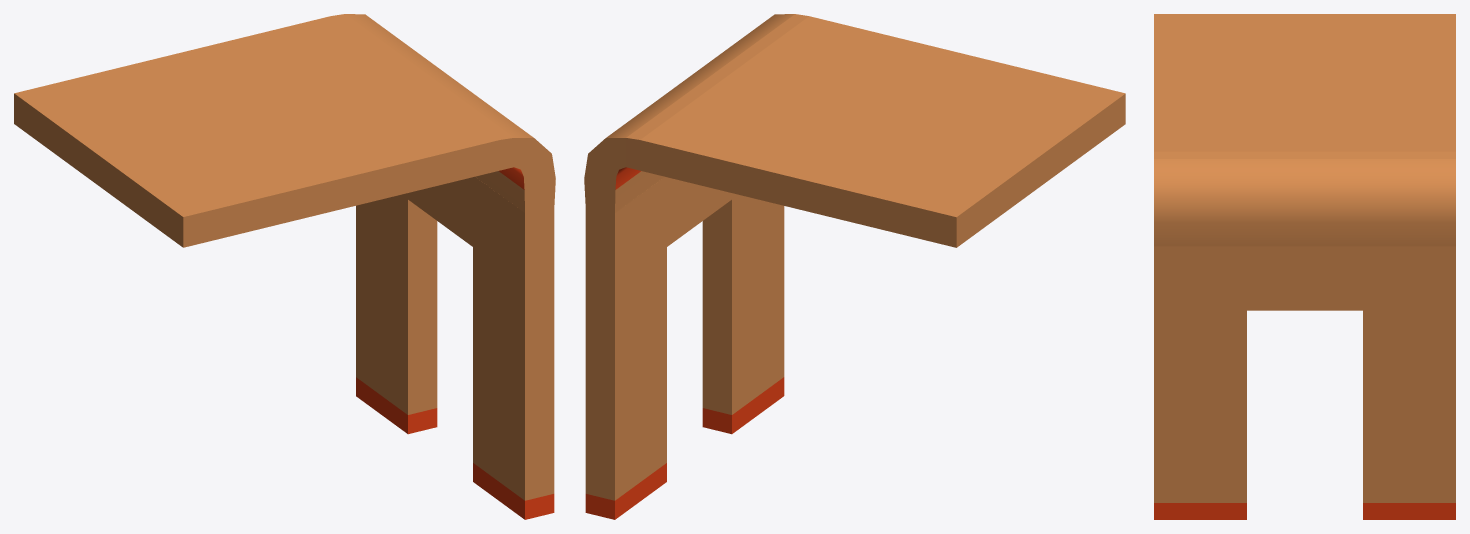
File: Doorway.fbx
3 views of the same model, side by side, from view 1: azimuth 30°, elevation 25°; view 2: azimuth 150°, elevation 25°; view 3: azimuth 270°, elevation 25° (orthographic). The views are drawn at different scales.
Parts seen in each view (by area): view 1: Doorway; view 2: Doorway; view 3: Doorway.
Boxes of the visible parts, x1,y1,x2,y2 form: Doorway: [14, 14, 555, 519]; Doorway: [584, 14, 1125, 519]; Doorway: [1154, 14, 1455, 519].
Size of the model in its own units: 3.18 by 3.15 by 2.5.
